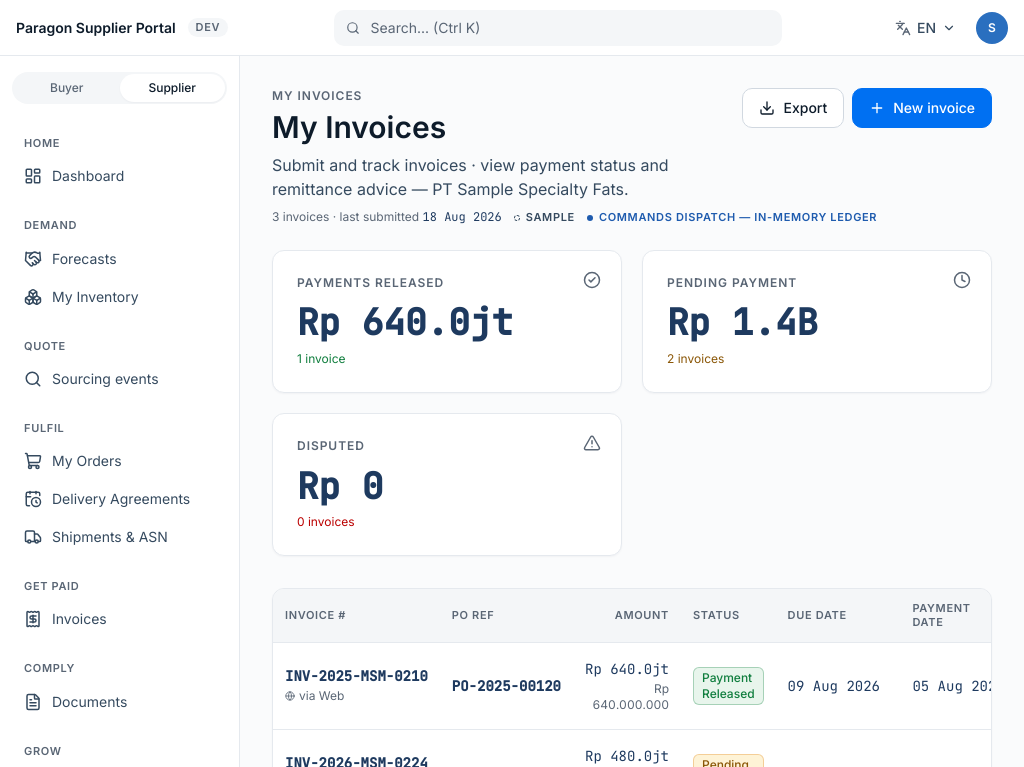
Test case: SupplierInvoices — the new invoice opens on the order's lines (E2E-2) › a LOWER quantity is admitted, and the amount follows it
Expected: the heading "My Invoices" is shown, [272,109,446,145]
Click the button "New invoice": (922, 108) [852,88,992,128]
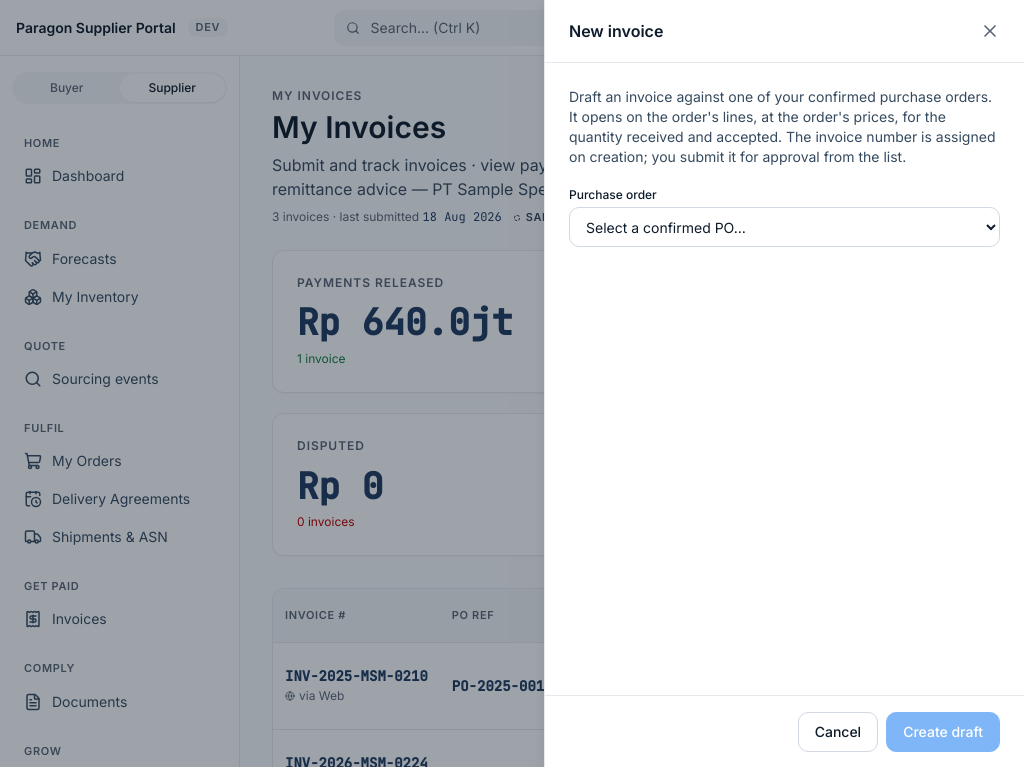
Select "PO-2025-00102" in the dropdown labelled "Purchase order": (784, 227) [569,207,1000,247]
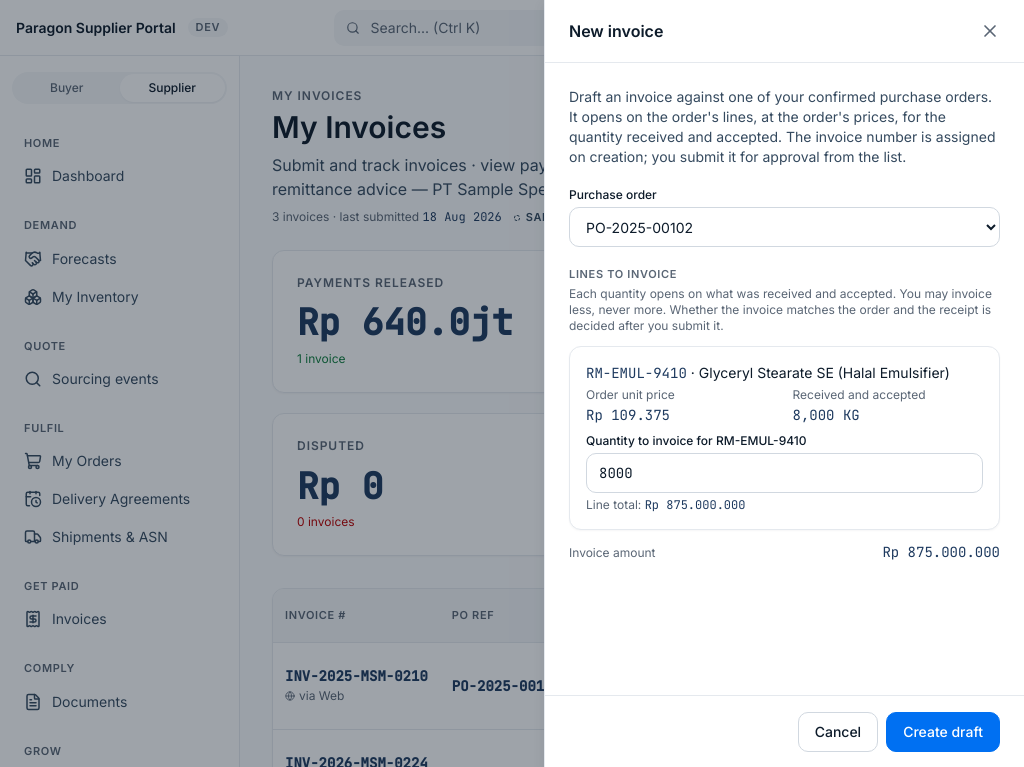
Replace the text in the field labelled "Quantity to invoice for RM-EMUL-9410" with "5000": (784, 473) [586,453,983,493]
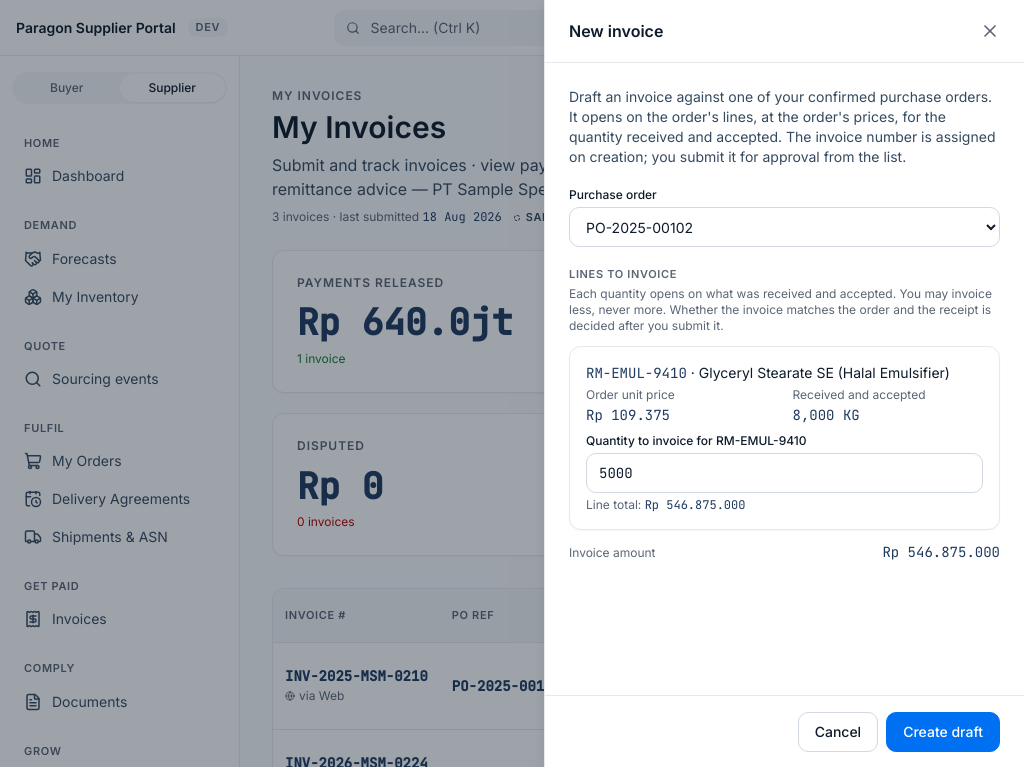
Now the button "Create draft" is enabled, box [886,712,1000,752]
Now the text with test id "invoice-lines-total" reads "Rp 546.875.000", box [882,543,1000,561]
